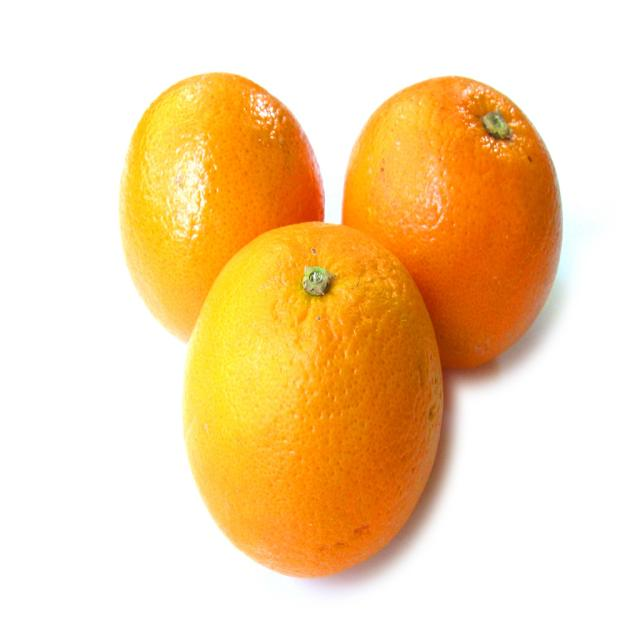orange: (183, 222, 444, 578), (343, 76, 564, 368), (119, 72, 324, 340)
